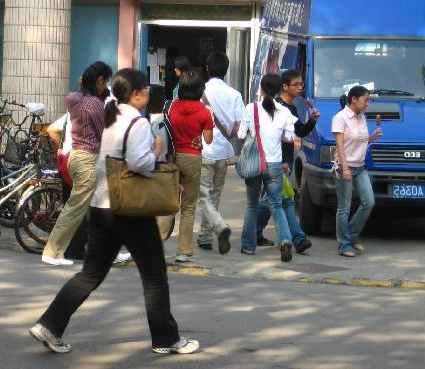pedestrian: (29, 68, 200, 354), (42, 61, 112, 266), (236, 73, 298, 262), (152, 72, 213, 262), (197, 52, 246, 255), (331, 86, 382, 256)
